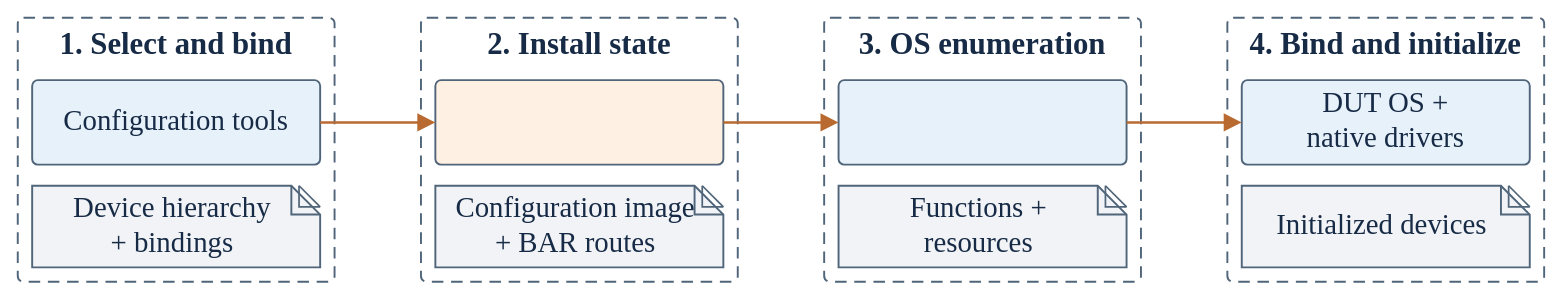
Image size: 1561x299. Some labels were removed from this diagram. Each missing label, with the box of its shape:
Device state manager + FPGA front-end: (434, 79, 724, 165)
DUT OS PCIe bus subsystem: (837, 79, 1127, 165)
